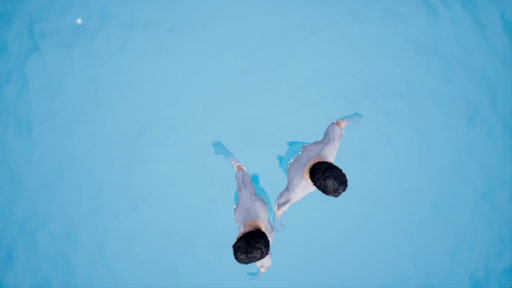person: (208, 106, 382, 269)
